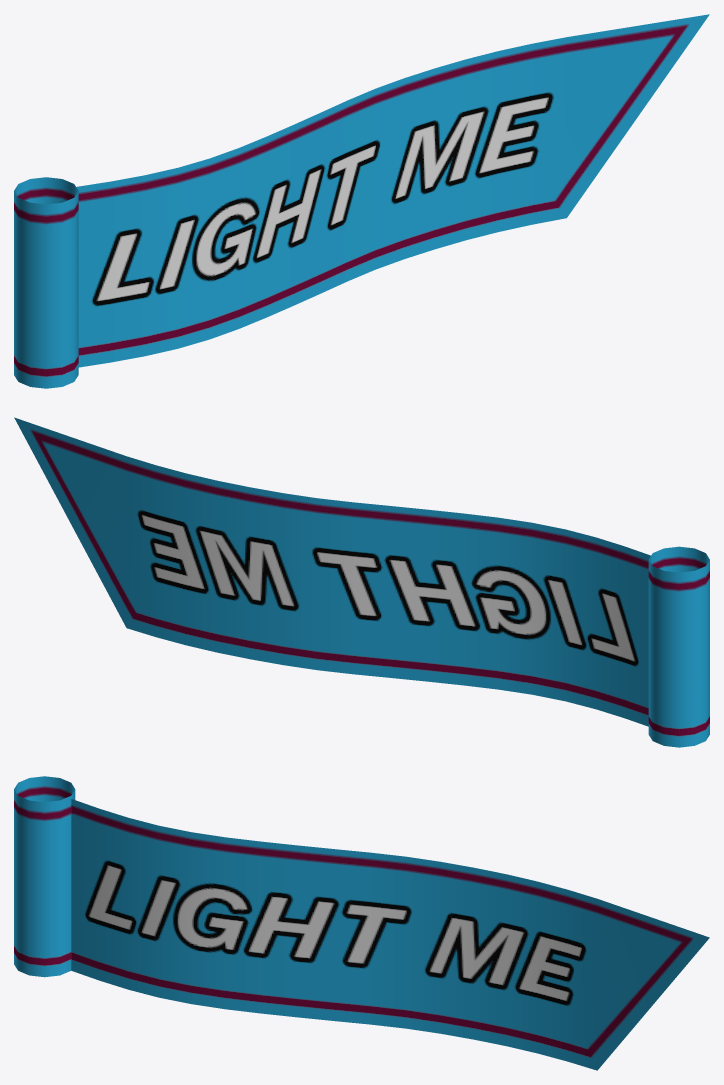
The model's file is fuseLabel.fbx.
3 renders of one model, top to bottom at view 1: azimuth 30°, elevation 25°; view 2: azimuth 150°, elevation 25°; view 3: azimuth 330°, elevation 25°, orthographic. The views are drawn at different scales.
Visible parts, largest first — view 1: pPlane3; view 2: pPlane3; view 3: pPlane3.
Part boxes in pixels (box(x1,y1,x2,y2)): pPlane3: box(14, 14, 709, 388); pPlane3: box(14, 417, 709, 747); pPlane3: box(14, 776, 709, 1070).
Size of the model in its own units: 5.08 by 1.26 by 0.6145.
1 material, 1 textured.
